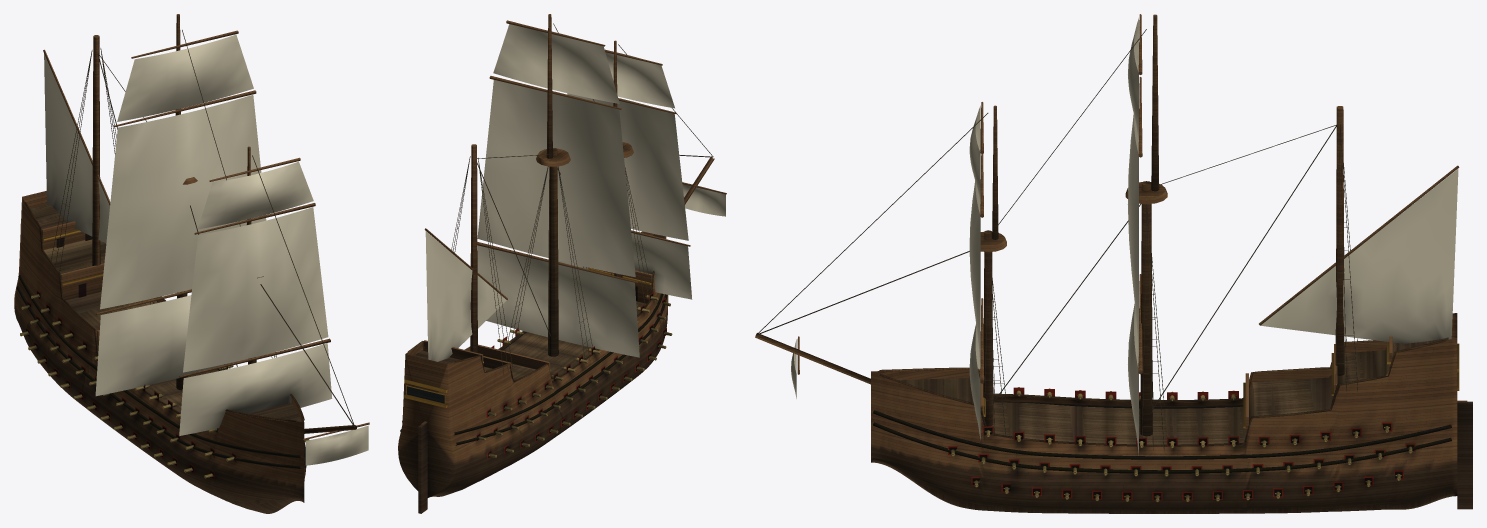
File: model_built.glb
3 views of the same model, side by side, from view 1: azimuth 30°, elevation 25°; view 2: azimuth 150°, elevation 25°; view 3: azimuth 270°, elevation 25° (orthographic). The views are drawn at different scales.
Visible parts, largest first — view 1: sails, hull, rig, rigging, guns; view 2: sails, hull, rig, rigging, guns; view 3: hull, sails, rig, rigging, guns.
Part boxes in pixels (left/top/right/bottom): sails: left=44, top=34, right=368, bottom=465; hull: left=14, top=191, right=306, bottom=513; rig: left=43, top=14, right=369, bottom=440; rigging: left=48, top=30, right=355, bottom=429; guns: left=20, top=294, right=309, bottom=478; sails: left=425, top=24, right=725, bottom=361; hull: left=398, top=231, right=668, bottom=513; rig: left=424, top=14, right=726, bottom=356; rigging: left=451, top=23, right=713, bottom=374; guns: left=478, top=294, right=672, bottom=457; hull: left=871, top=313, right=1472, bottom=513; sails: left=791, top=18, right=1458, bottom=455; rig: left=755, top=14, right=1459, bottom=436; rigging: left=756, top=29, right=1357, bottom=449; guns: left=951, top=387, right=1412, bottom=502.
Bounding box in the file's own units: 21.22 × 49.31 × 64.88.
Materials: 5 (2 with a texture image).
